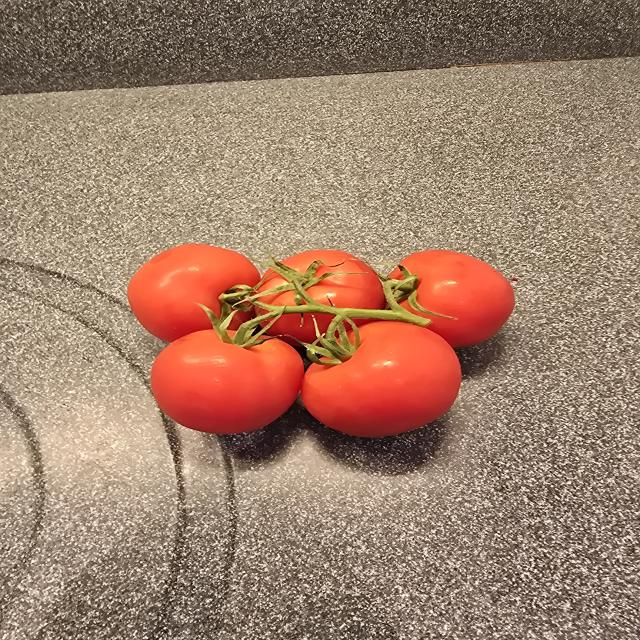Tomato: (301, 321, 461, 437), (151, 329, 304, 434), (128, 244, 260, 342), (386, 250, 515, 348)
